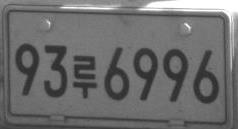3: (43, 44, 68, 97)
6: (103, 46, 130, 101), (192, 49, 219, 104)
9: (162, 47, 189, 102), (132, 46, 158, 101), (14, 42, 40, 95)
루: (72, 55, 97, 98)
